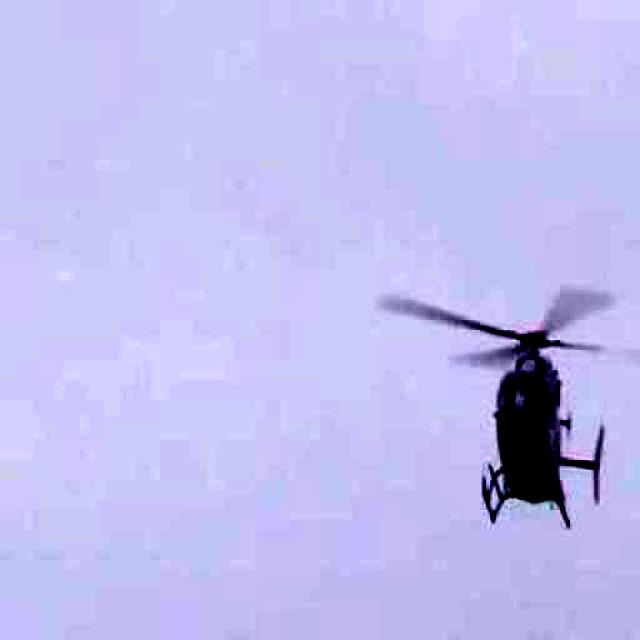drone: (360, 242, 640, 551)
